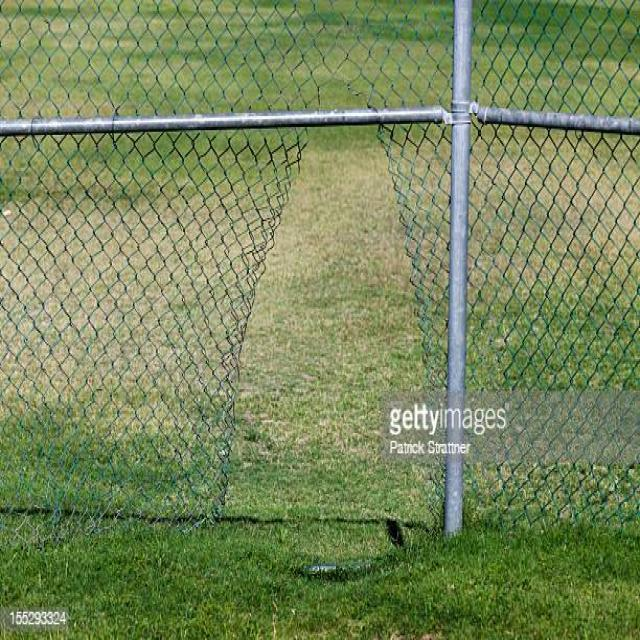fence line: (220, 57, 447, 527)
